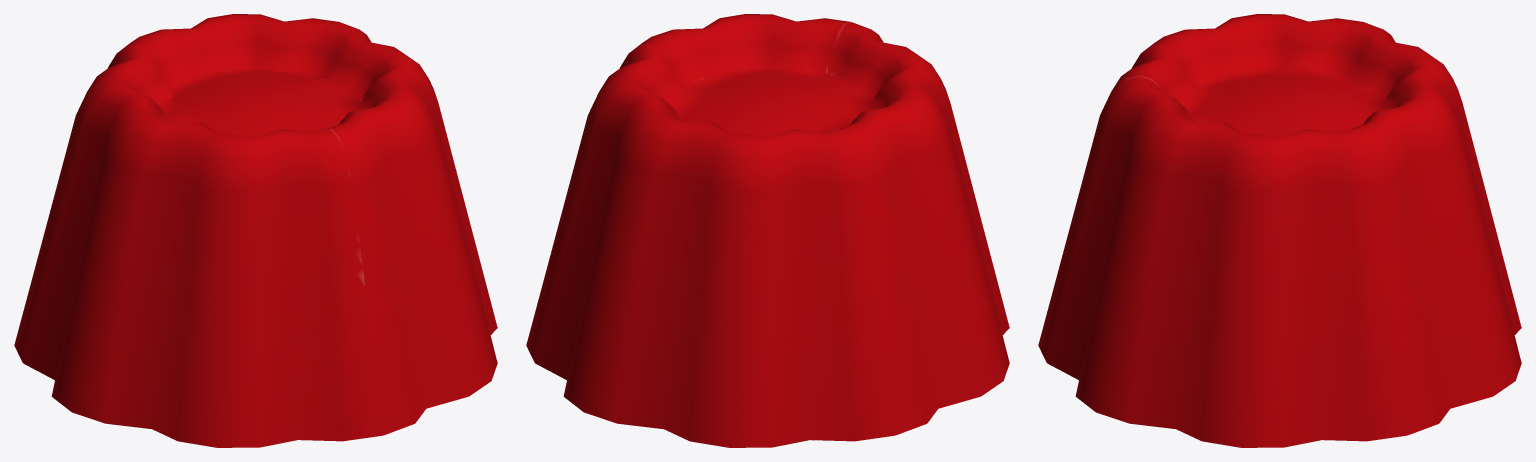
The model's file is AL_Gelatina_Static.fbx.
The picture shows the model from 3 angles, left to right: view 1: azimuth 30°, elevation 25°; view 2: azimuth 150°, elevation 25°; view 3: azimuth 270°, elevation 25°; orthographic projection.
Visible parts, largest first — view 1: Plate; view 2: Plate; view 3: Plate.
Boxes of the visible parts, <box> form: Plate: <box>14,14,497,447</box>; Plate: <box>526,14,1009,447</box>; Plate: <box>1038,14,1521,447</box>.
Size of the model in its own units: 0.3821 by 0.2397 by 0.3831.
